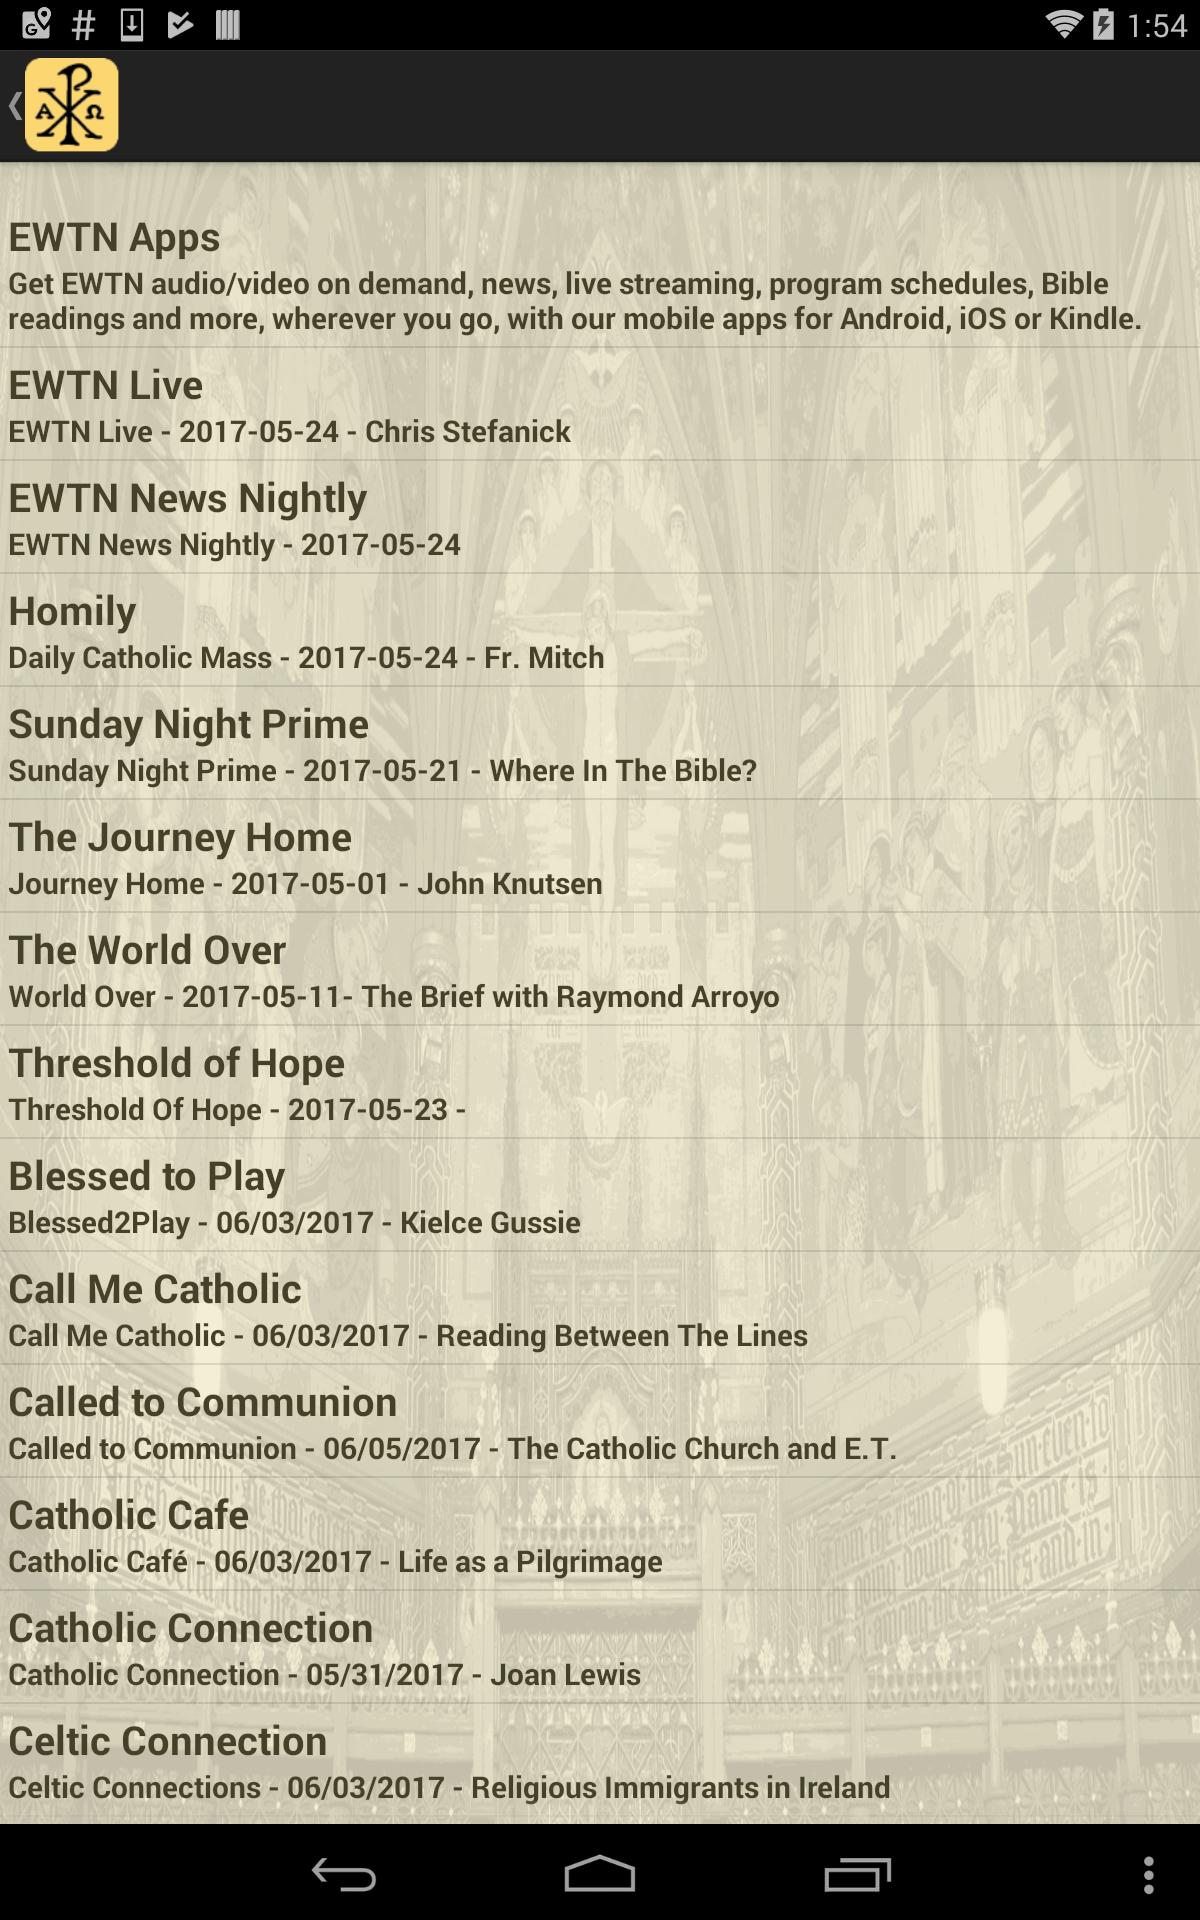android.view.View: (0, 0, 1200, 1825), (0, 162, 1200, 1825), (0, 50, 1200, 162)
android.widget.FrameLayout: (0, 0, 1200, 1825), (0, 162, 1200, 1825), (0, 50, 1200, 162), (0, 50, 129, 162)
android.widget.ImageView: (25, 58, 122, 153), (0, 90, 32, 122)
android.widget.LinearLayout: (0, 162, 1200, 1825), (0, 200, 1200, 346), (0, 574, 1200, 686), (0, 912, 1200, 1024), (0, 1026, 1200, 1138), (0, 1364, 1200, 1476), (0, 1478, 1200, 1590), (0, 348, 1200, 459), (0, 462, 1200, 572), (0, 687, 1200, 798), (0, 800, 1200, 911), (0, 1139, 1200, 1250), (0, 1252, 1200, 1363), (0, 1591, 1200, 1702), (0, 1704, 1200, 1815), (0, 1816, 1200, 1920), (0, 50, 129, 162)
android.widget.TextView: (8, 263, 1192, 339), (8, 207, 1192, 263), (8, 357, 1192, 411), (8, 469, 1192, 523), (8, 582, 1192, 636), (8, 695, 1192, 749), (8, 809, 1192, 863), (8, 921, 1192, 975), (8, 1034, 1192, 1088), (8, 1147, 1192, 1201), (8, 1261, 1192, 1315), (8, 1373, 1192, 1427), (8, 1486, 1192, 1540), (8, 1599, 1192, 1653), (8, 1713, 1192, 1767), (8, 523, 1192, 564), (8, 636, 1192, 677), (8, 749, 1192, 791), (8, 975, 1192, 1016), (8, 1088, 1192, 1129), (8, 1201, 1192, 1243), (8, 1427, 1192, 1468), (8, 1540, 1192, 1581), (8, 1653, 1192, 1695), (8, 411, 1192, 451), (8, 863, 1192, 903), (8, 1315, 1192, 1355), (8, 1767, 1192, 1807), (0, 162, 1200, 200)
